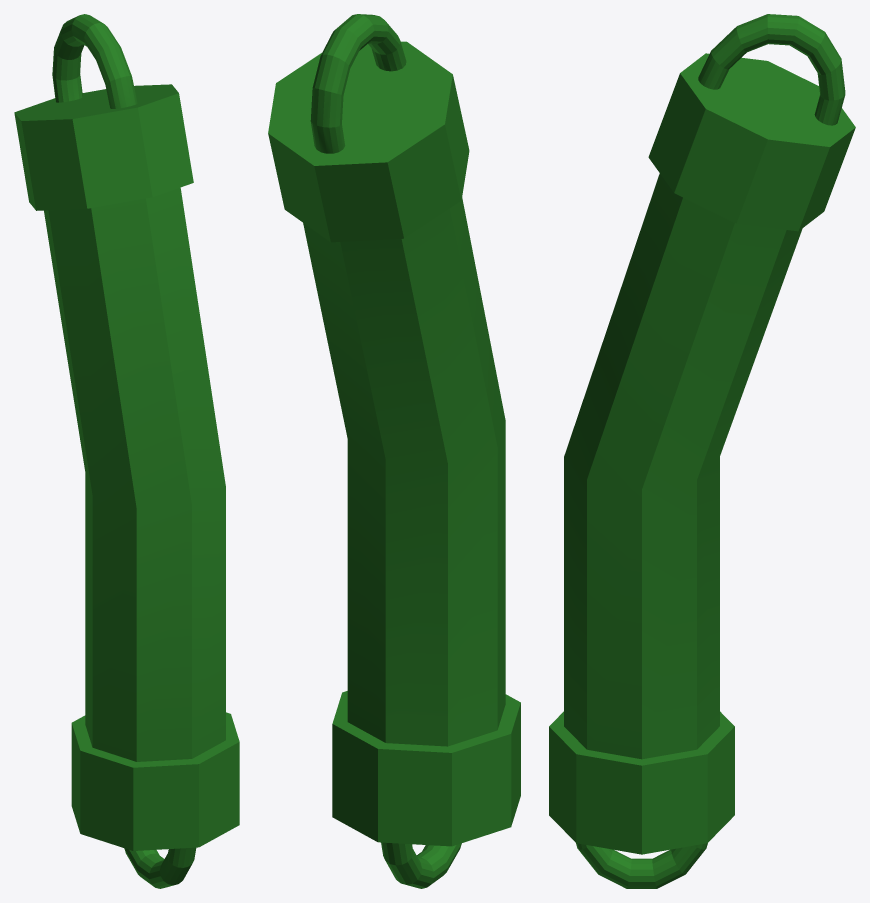
The model's file is Glowstick_Crack.FBX.
3 renders of one model, left to right at view 1: azimuth 30°, elevation 25°; view 2: azimuth 150°, elevation 25°; view 3: azimuth 270°, elevation 25°, orthographic. The views are drawn at different scales.
Visible parts, largest first — view 1: Glowstick_Crack; view 2: Glowstick_Crack; view 3: Glowstick_Crack.
Part boxes in pixels (<box>): Glowstick_Crack: <box>14,14,239,888</box>; Glowstick_Crack: <box>268,14,520,888</box>; Glowstick_Crack: <box>549,14,855,888</box>.
Size of what is drawn, in the model's own units: 2.38 by 3.94 by 12.35.
